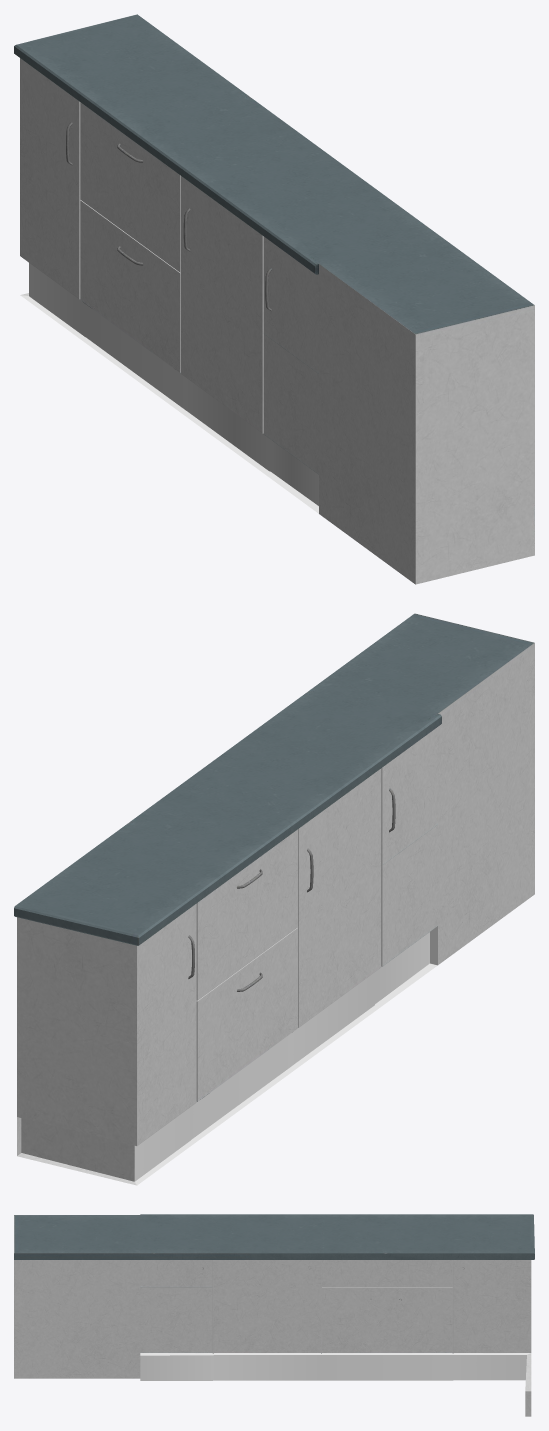
The model's file is encimera1.dae.
3 renders of one model, top to bottom at view 1: azimuth 30°, elevation 25°; view 2: azimuth 150°, elevation 25°; view 3: azimuth 270°, elevation 25°, orthographic. The views are drawn at different scales.
Parts seen in each view (by area): view 1: Cubo.002; view 2: Cubo.002; view 3: Cubo.002.
Boxes of the visible parts, left/top/right/bottom form: Cubo.002: left=14, top=14, right=534, bottom=584; Cubo.002: left=14, top=613, right=534, bottom=1185; Cubo.002: left=14, top=1214, right=534, bottom=1416.
Size of the model in its own units: 0.4716 by 2.6 by 0.9.
